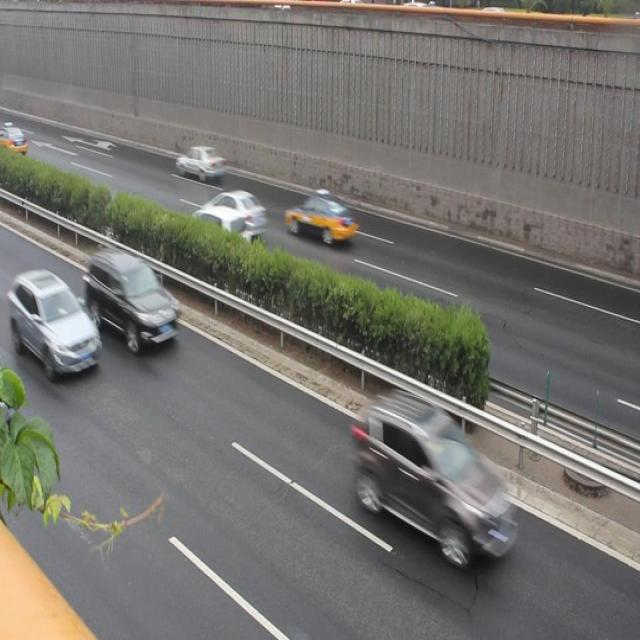car: (354, 392, 511, 558), (10, 268, 101, 380), (84, 250, 178, 352), (180, 207, 253, 265), (285, 192, 356, 247), (202, 190, 269, 233), (176, 143, 226, 185)
